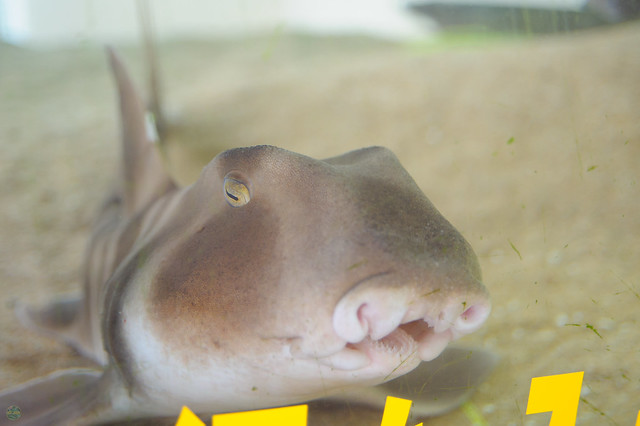gonzui: (57, 23, 520, 415)
